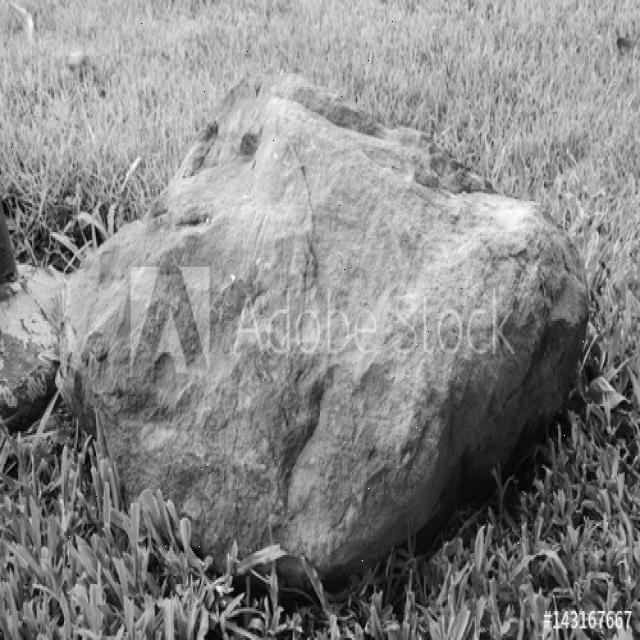Igneous: (57, 50, 596, 594)
